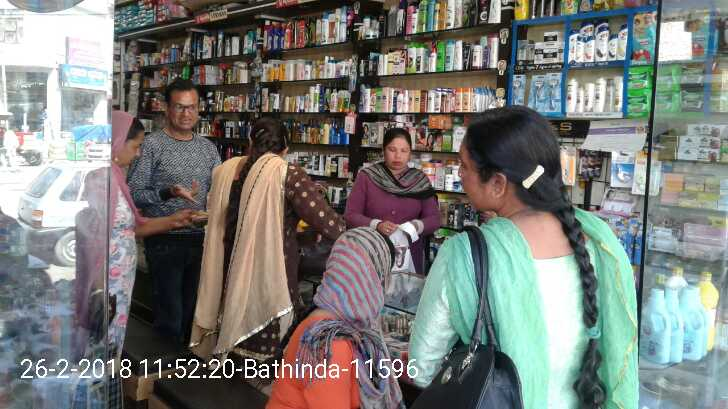venus: (545, 74, 564, 111), (529, 76, 545, 111), (514, 75, 526, 106)
